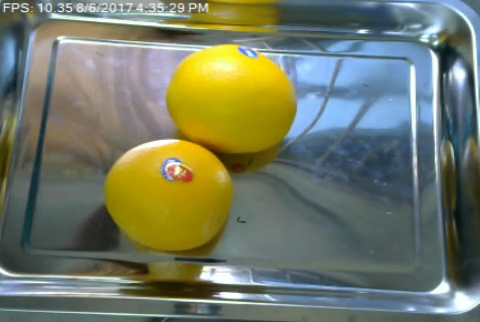Orange: (104, 138, 233, 252), (165, 44, 298, 153)
